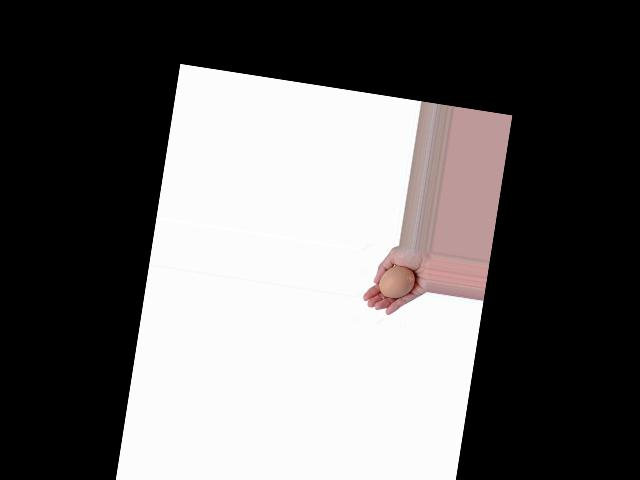egg: (377, 263, 416, 301)
